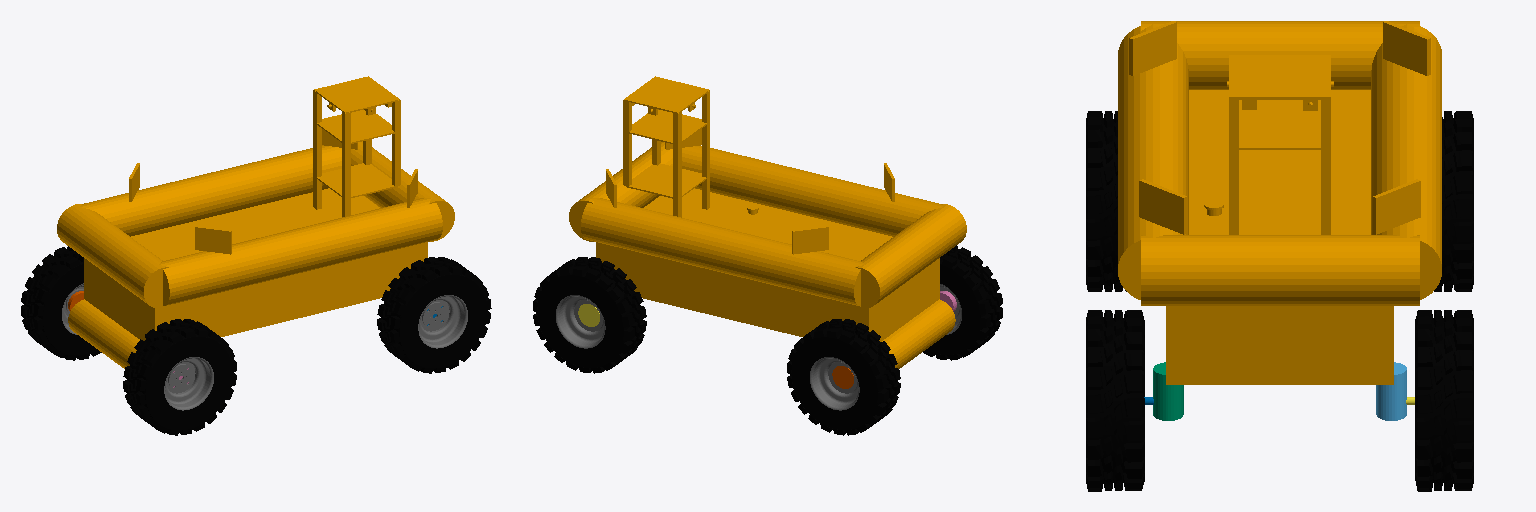
The robot description file, URDF, robot "CORO_KAREN":
<?xml version="1.0" ?>
<robot name="CORO_KAREN">
  <joint name="CORO_KAREN__front_left_wheel_steering_joint" type="revolute">
    <parent link="CORO_KAREN__base_link"/>
    <child link="CORO_KAREN__front_left_wheel_steering_link"/>
    <origin rpy="0 0 0" xyz="0.465  0.22   0.1475"/>
    <axis xyz="0 0 1"/>
    <limit effort="150.0" lower="-0.6" upper="0.6" velocity="1.0"/>
  </joint>
  <joint name="CORO_KAREN__front_right_wheel_steering_joint" type="revolute">
    <parent link="CORO_KAREN__base_link"/>
    <child link="CORO_KAREN__front_right_wheel_steering_link"/>
    <origin rpy="0 0 0" xyz="0.465  -0.22    0.1475"/>
    <axis xyz="0 0 1"/>
    <limit effort="150.0" lower="-0.6" upper="0.6" velocity="1.0"/>
  </joint>
  <joint name="CORO_KAREN__front_left_wheel_joint" type="revolute">
    <parent link="CORO_KAREN__front_left_wheel_steering_link"/>
    <child link="CORO_KAREN__front_left_wheel"/>
    <origin rpy="0 0 0" xyz="0     0.105 -0.02"/>
    <axis xyz="0 1 0"/>
    <limit effort="35.0" lower="-1.79769e+308" upper="1.79769e+308" velocity="9.71"/>
  </joint>
  <joint name="CORO_KAREN__front_right_wheel_joint" type="revolute">
    <parent link="CORO_KAREN__front_right_wheel_steering_link"/>
    <child link="CORO_KAREN__front_right_wheel"/>
    <origin rpy="0 0 0" xyz="0    -0.105 -0.02"/>
    <axis xyz="0 1 0"/>
    <limit effort="35.0" lower="-1.79769e+308" upper="1.79769e+308" velocity="9.71"/>
  </joint>
  <joint name="CORO_KAREN__rear_left_wheel_joint" type="revolute">
    <parent link="CORO_KAREN__base_link"/>
    <child link="CORO_KAREN__rear_left_wheel"/>
    <origin rpy="0 0 0" xyz="-0.465   0.325   0.1275"/>
    <axis xyz="0 1 0"/>
    <limit effort="35.0" lower="-1.79769e+308" upper="1.79769e+308" velocity="9.71"/>
  </joint>
  <joint name="CORO_KAREN__rear_right_wheel_joint" type="revolute">
    <parent link="CORO_KAREN__base_link"/>
    <child link="CORO_KAREN__rear_right_wheel"/>
    <origin rpy="0 0 0" xyz="-0.465  -0.325   0.1275"/>
    <axis xyz="0 1 0"/>
    <limit effort="35.0" lower="-1.79769e+308" upper="1.79769e+308" velocity="9.71"/>
  </joint>
  <link name="CORO_KAREN__base_link">
    <inertial>
      <mass value="90.0"/>
      <origin rpy="0 0 0" xyz="0      0      0.07249"/>
      <inertia ixx="3.333" ixy="0" ixz="0" iyy="9.733" iyz="0" izz="9.733"/>
    </inertial>
    <collision name="CORO_KAREN__chassis_collision">
      <origin rpy="0 0 0" xyz="0     0     0.3775"/>
      <geometry>
        <box size="1.1 0.7 0.4"/>
      </geometry>
    </collision>
    <collision name="CORO_KAREN__tower_collision">
      <origin rpy="0 0 0" xyz="0.13   0     0.3975"/>
      <geometry>
        <box size="0.2 0.2 0.34"/>
      </geometry>
    </collision>
    <visual name="CORO_KAREN__chassis_main_visual">
      <origin rpy="0 0 0" xyz="0     0     0.2775"/>
      <geometry>
        <box size="1.0 0.45 0.2"/>
      </geometry>
    </visual>
    <visual name="CORO_KAREN__front_side">
      <origin rpy="1.5707 0     0" xyz="0.5    0     0.4275"/>
      <geometry>
        <cylinder length="0.55" radius="0.07"/>
      </geometry>
    </visual>
    <visual name="CORO_KAREN__back_side">
      <origin rpy="1.5707 0     0" xyz="-0.5     0      0.4275"/>
      <geometry>
        <cylinder length="0.55" radius="0.07"/>
      </geometry>
    </visual>
    <visual name="CORO_KAREN__left_side">
      <origin rpy="0     1.5707 0" xyz="0     0.25   0.4275"/>
      <geometry>
        <cylinder length="1.0" radius="0.07"/>
      </geometry>
    </visual>
    <visual name="CORO_KAREN__right_side">
      <origin rpy="0     1.5707 0" xyz="0     -0.25    0.4275"/>
      <geometry>
        <cylinder length="1.0" radius="0.07"/>
      </geometry>
    </visual>
    <visual name="CORO_KAREN__differential_visual">
      <origin rpy="1.5707 0     0" xyz="-0.5     0      0.1275"/>
      <geometry>
        <cylinder length="0.44" radius="0.06"/>
      </geometry>
    </visual>
    <visual name="CORO_KAREN__plate1_visual">
      <origin rpy="0 0 0" xyz="0.37   0     0.7875"/>
      <geometry>
        <box size="0.2 0.2 0.005"/>
      </geometry>
    </visual>
    <visual name="CORO_KAREN__plate2_visual">
      <origin rpy="0 0 0" xyz="0.37   0     0.6775"/>
      <geometry>
        <box size="0.2 0.2 0.005"/>
      </geometry>
    </visual>
    <visual name="CORO_KAREN__plate3_visual">
      <origin rpy="0 0 0" xyz="0.37   0     0.4875"/>
      <geometry>
        <box size="0.2 0.2 0.005"/>
      </geometry>
    </visual>
    <visual name="CORO_KAREN__beam1_visual">
      <origin rpy="0 0 0" xyz="0.461   0.091   0.63749"/>
      <geometry>
        <box size="0.02 0.02 0.3"/>
      </geometry>
    </visual>
    <visual name="CORO_KAREN__beam2_visual">
      <origin rpy="0 0 0" xyz="0.461   -0.091    0.63749"/>
      <geometry>
        <box size="0.02 0.02 0.3"/>
      </geometry>
    </visual>
    <visual name="CORO_KAREN__beam3_visual">
      <origin rpy="0 0 0" xyz="0.279  0.091  0.5375"/>
      <geometry>
        <box size="0.02 0.02 0.5"/>
      </geometry>
    </visual>
    <visual name="CORO_KAREN__beam4_visual">
      <origin rpy="0 0 0" xyz="0.279  -0.091   0.5375"/>
      <geometry>
        <box size="0.02 0.02 0.5"/>
      </geometry>
    </visual>
    <visual name="CORO_KAREN__d435i_realsense_camera_visual">
      <origin rpy="0   0.52 0" xyz="0.43   0     0.7615"/>
      <geometry>
        <mesh filename="package://coro_karen_sensor_config_1/meshes/realsense_d435.dae" scale="0.001 0.001 0.001"/>
      </geometry>
    </visual>
    <visual name="CORO_KAREN__vlp16_visual1">
      <origin rpy="0 0 0" xyz="0.37   0     0.6795"/>
      <geometry>
        <mesh filename="package://coro_karen_sensor_config_1/meshes/VLP16_base_1.dae" scale="1 1 1"/>
      </geometry>
    </visual>
    <visual name="CORO_KAREN__vlp_visual2">
      <origin rpy="0 0 0" xyz="0.37   0     0.6795"/>
      <geometry>
        <mesh filename="package://coro_karen_sensor_config_1/meshes/VLP16_base_2.dae" scale="1 1 1"/>
      </geometry>
    </visual>
    <visual name="CORO_KAREN__vlp_visual3">
      <origin rpy="0 0 0" xyz="0.37   0     0.6795"/>
      <geometry>
        <mesh filename="package://coro_karen_sensor_config_1/meshes/VLP16_scan.dae" scale="1 1 1"/>
      </geometry>
    </visual>
    <visual name="CORO_KAREN__emergency_stop_bottom_visual">
      <origin rpy="0 0 0" xyz="0.13   -0.13    0.3875"/>
      <geometry>
        <cylinder length="0.015" radius="0.015"/>
      </geometry>
    </visual>
    <visual name="CORO_KAREN__emergency_stop_top_visual">
      <origin rpy="0 0 0" xyz="0.13   -0.13    0.3975"/>
      <geometry>
        <cylinder length="0.005" radius="0.02"/>
      </geometry>
    </visual>
    <visual name="CORO_KAREN__thermal_camera_visual">
      <origin rpy="0 0 0" xyz="0.45   -0.06    0.7725"/>
      <geometry>
        <box size="0.02 0.03 0.03"/>
      </geometry>
    </visual>
    <visual name="CORO_KAREN__camera_front_visual">
      <origin rpy="0 0 0" xyz="0.46   0.06   0.7725"/>
      <geometry>
        <box size="0.01 0.03 0.03"/>
      </geometry>
    </visual>
    <visual name="CORO_KAREN__camera_lens_front_visual">
      <origin rpy="0      1.57079 0" xyz="0.47   0.06   0.7725"/>
      <geometry>
        <cylinder length="0.011" radius="0.005"/>
      </geometry>
    </visual>
    <visual name="CORO_KAREN__camera_rear_visual">
      <origin rpy="0 0 0" xyz="0.28   0     0.7725"/>
      <geometry>
        <box size="0.01 0.03 0.03"/>
      </geometry>
    </visual>
    <visual name="CORO_KAREN__camera_lens_rear_visual">
      <origin rpy="0      1.57079 0" xyz="0.27   0     0.7725"/>
      <geometry>
        <cylinder length="0.011" radius="0.005"/>
      </geometry>
    </visual>
    <visual name="CORO_KAREN__camera_left_visual">
      <origin rpy="0 0 0" xyz="0.37   0.09   0.7725"/>
      <geometry>
        <box size="0.03 0.01 0.03"/>
      </geometry>
    </visual>
    <visual name="CORO_KAREN__camera_lens_left_visual">
      <origin rpy="1.57079 0      0" xyz="0.37   0.1    0.7725"/>
      <geometry>
        <cylinder length="0.011" radius="0.005"/>
      </geometry>
    </visual>
    <visual name="CORO_KAREN__camera_right_visual">
      <origin rpy="0 0 0" xyz="0.37   -0.09    0.7725"/>
      <geometry>
        <box size="0.03 0.01 0.03"/>
      </geometry>
    </visual>
    <visual name="CORO_KAREN__camera_lens_right_visual">
      <origin rpy="1.57079 0      0" xyz="0.37   -0.1     0.7725"/>
      <geometry>
        <cylinder length="0.011" radius="0.005"/>
      </geometry>
    </visual>
    <visual name="CORO_KAREN__light_front_left_visual">
      <origin rpy="0   0   0.75" xyz="0.44   0.23   0.5375"/>
      <geometry>
        <box size="0.01 0.12 0.08"/>
      </geometry>
    </visual>
    <visual name="CORO_KAREN__light_front_right_visual">
      <origin rpy="0    0   -0.75" xyz="0.44   -0.23    0.5375"/>
      <geometry>
        <box size="0.01 0.12 0.08"/>
      </geometry>
    </visual>
    <visual name="CORO_KAREN__light_rear_left_visual">
      <origin rpy="0    0   -0.75" xyz="-0.3     0.25    0.5375"/>
      <geometry>
        <box size="0.01 0.12 0.08"/>
      </geometry>
    </visual>
    <visual name="CORO_KAREN__light_rear_right_visual">
      <origin rpy="0   0   0.75" xyz="-0.3    -0.25    0.5375"/>
      <geometry>
        <box size="0.01 0.12 0.08"/>
      </geometry>
    </visual>
  </link>
  <link name="CORO_KAREN__front_left_wheel_steering_link">
    <inertial>
      <mass value="0.5"/>
      <origin rpy="0 0 0" xyz="0 0 0"/>
      <inertia ixx="0.0153" ixy="0" ixz="0" iyy="0.025" iyz="0" izz="0.0153"/>
    </inertial>
    <visual name="CORO_KAREN__steering_link_visual">
      <origin rpy="0 0 0" xyz="0 0 0"/>
      <geometry>
        <cylinder length="0.1" radius="0.03"/>
      </geometry>
    </visual>
  </link>
  <link name="CORO_KAREN__front_right_wheel_steering_link">
    <inertial>
      <mass value="0.5"/>
      <origin rpy="0 0 0" xyz="0 0 0"/>
      <inertia ixx="0.0153" ixy="0" ixz="0" iyy="0.025" iyz="0" izz="0.0153"/>
    </inertial>
    <visual name="CORO_KAREN__steering_link_visual">
      <origin rpy="0 0 0" xyz="0 0 0"/>
      <geometry>
        <cylinder length="0.1" radius="0.03"/>
      </geometry>
    </visual>
  </link>
  <link name="CORO_KAREN__front_left_wheel">
    <inertial>
      <mass value="5.0"/>
      <origin rpy="0 0 0" xyz="0 0 0"/>
      <inertia ixx="0.043" ixy="0" ixz="0" iyy="0.076" iyz="0" izz="0.043"/>
    </inertial>
    <collision name="CORO_KAREN__collision">
      <origin rpy="-1.57079  0       0" xyz="0 0 0"/>
      <geometry>
        <cylinder length="0.11" radius="0.175"/>
      </geometry>
    </collision>
    <visual name="CORO_KAREN__tire_visual">
      <origin rpy="0 0 0" xyz="0 0 0"/>
      <geometry>
        <mesh filename="package://coro_karen_sensor_config_1/meshes/wheel.dae" scale="1.01 1.0 1.01"/>
      </geometry>
    </visual>
    <visual name="CORO_KAREN__hub_visual">
      <origin rpy="1.57079 0      0" xyz="0   -0.01  0"/>
      <geometry>
        <cylinder length="0.025" radius="0.04"/>
      </geometry>
    </visual>
    <visual name="CORO_KAREN__axis_visual">
      <origin rpy="1.57079 0      0" xyz="0   -0.08  0"/>
      <geometry>
        <cylinder length="0.1" radius="0.008"/>
      </geometry>
    </visual>
  </link>
  <link name="CORO_KAREN__front_right_wheel">
    <inertial>
      <mass value="5.0"/>
      <origin rpy="0 0 0" xyz="0 0 0"/>
      <inertia ixx="0.043" ixy="0" ixz="0" iyy="0.076" iyz="0" izz="0.043"/>
    </inertial>
    <collision name="CORO_KAREN__collision">
      <origin rpy="1.57079 0      0" xyz="0 0 0"/>
      <geometry>
        <cylinder length="0.11" radius="0.175"/>
      </geometry>
    </collision>
    <visual name="CORO_KAREN__tire_visual">
      <origin rpy="0 0 0" xyz="0 0 0"/>
      <geometry>
        <mesh filename="package://coro_karen_sensor_config_1/meshes/wheel.dae" scale="1.01 1.0 1.01"/>
      </geometry>
    </visual>
    <visual name="CORO_KAREN__hub_visual">
      <origin rpy="1.57079 0      0" xyz="0   0.01 0"/>
      <geometry>
        <cylinder length="0.025" radius="0.04"/>
      </geometry>
    </visual>
    <visual name="CORO_KAREN__axis_visual">
      <origin rpy="1.57079 0      0" xyz="0   0.08 0"/>
      <geometry>
        <cylinder length="0.1" radius="0.008"/>
      </geometry>
    </visual>
  </link>
  <link name="CORO_KAREN__rear_left_wheel">
    <inertial>
      <mass value="5.0"/>
      <origin rpy="0 0 0" xyz="0 0 0"/>
      <inertia ixx="0.043" ixy="0" ixz="0" iyy="0.076" iyz="0" izz="0.043"/>
    </inertial>
    <collision name="CORO_KAREN__collision">
      <origin rpy="-1.57079  0       0" xyz="0 0 0"/>
      <geometry>
        <cylinder length="0.11" radius="0.175"/>
      </geometry>
    </collision>
    <visual name="CORO_KAREN__tire_visual">
      <origin rpy="0 0 0" xyz="0 0 0"/>
      <geometry>
        <mesh filename="package://coro_karen_sensor_config_1/meshes/wheel.dae" scale="1.01 1.0 1.01"/>
      </geometry>
    </visual>
    <visual name="CORO_KAREN__hub_visual">
      <origin rpy="1.57079 0      0" xyz="0   -0.01  0"/>
      <geometry>
        <cylinder length="0.025" radius="0.04"/>
      </geometry>
    </visual>
    <visual name="CORO_KAREN__axis_visual">
      <origin rpy="1.57079 0      0" xyz="0   -0.08  0"/>
      <geometry>
        <cylinder length="0.1" radius="0.008"/>
      </geometry>
    </visual>
  </link>
  <link name="CORO_KAREN__rear_right_wheel">
    <inertial>
      <mass value="5.0"/>
      <origin rpy="0 0 0" xyz="0 0 0"/>
      <inertia ixx="0.043" ixy="0" ixz="0" iyy="0.076" iyz="0" izz="0.043"/>
    </inertial>
    <collision name="CORO_KAREN__collision">
      <origin rpy="1.57079 0      0" xyz="0 0 0"/>
      <geometry>
        <cylinder length="0.11" radius="0.175"/>
      </geometry>
    </collision>
    <visual name="CORO_KAREN__tire_visual">
      <origin rpy="0 0 0" xyz="0 0 0"/>
      <geometry>
        <mesh filename="package://coro_karen_sensor_config_1/meshes/wheel.dae" scale="1.01 1.0 1.01"/>
      </geometry>
    </visual>
    <visual name="CORO_KAREN__hub_visual">
      <origin rpy="1.57079 0      0" xyz="0   0.01 0"/>
      <geometry>
        <cylinder length="0.025" radius="0.04"/>
      </geometry>
    </visual>
    <visual name="CORO_KAREN__axis_visual">
      <origin rpy="1.57079 0      0" xyz="0   0.08 0"/>
      <geometry>
        <cylinder length="0.1" radius="0.008"/>
      </geometry>
    </visual>
  </link>
</robot>

--- Render facts (derived) ---
Views: 3 orthographic renders of the robot side by side, from view 1: azimuth 30°, elevation 25°; view 2: azimuth 150°, elevation 25°; view 3: azimuth 270°, elevation 25°.
Model CORO_KAREN with 7 links and 6 joints (6 revolute), rooted at CORO_KAREN__base_link, posed every joint at zero.
Links seen in each view (by area): view 1: CORO_KAREN__base_link, CORO_KAREN__front_right_wheel, CORO_KAREN__rear_right_wheel, CORO_KAREN__rear_left_wheel; view 2: CORO_KAREN__base_link, CORO_KAREN__rear_left_wheel, CORO_KAREN__front_left_wheel, CORO_KAREN__rear_right_wheel; view 3: CORO_KAREN__base_link, CORO_KAREN__front_left_wheel, CORO_KAREN__front_right_wheel, CORO_KAREN__rear_left_wheel, CORO_KAREN__rear_right_wheel, CORO_KAREN__front_left_wheel_steering_link, CORO_KAREN__front_right_wheel_steering_link.
Boxes of the visible links, x1,y1,x2,y2 form: CORO_KAREN__base_link: (57,76,454,368); CORO_KAREN__front_right_wheel: (377,257,491,373); CORO_KAREN__rear_right_wheel: (123,319,236,435); CORO_KAREN__rear_left_wheel: (21,246,101,360); CORO_KAREN__base_link: (569,76,966,368); CORO_KAREN__rear_left_wheel: (787,319,900,435); CORO_KAREN__front_left_wheel: (533,257,646,373); CORO_KAREN__rear_right_wheel: (923,245,1002,360); CORO_KAREN__base_link: (1118,21,1441,384); CORO_KAREN__front_left_wheel: (1406,310,1473,491); CORO_KAREN__front_right_wheel: (1086,310,1153,491); CORO_KAREN__rear_left_wheel: (1434,111,1473,291); CORO_KAREN__rear_right_wheel: (1086,111,1126,291); CORO_KAREN__front_left_wheel_steering_link: (1376,362,1406,420); CORO_KAREN__front_right_wheel_steering_link: (1153,362,1183,420).
Size in the robot's own frame: 1.29 by 0.7658 by 0.8413 metres.
Meshes: 5 distinct files referenced, 4 mesh visuals loaded (1 Collada DAE); not drawn: 4 (reference not matched to a file when rendering).
